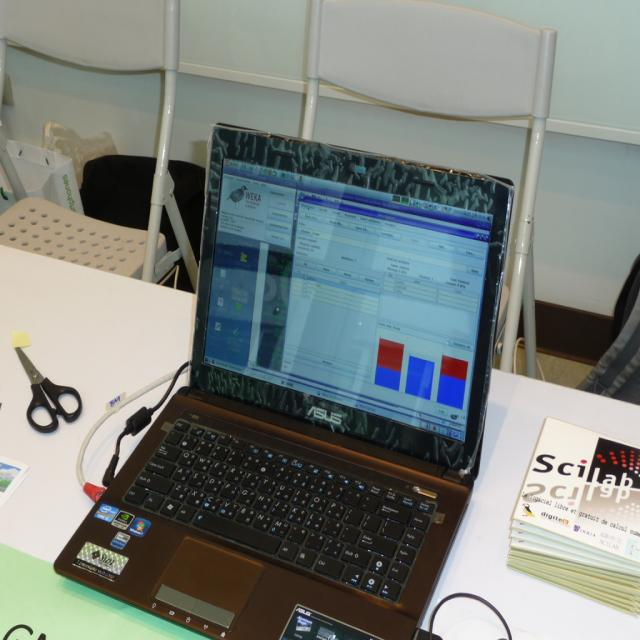scissors: (13, 345, 82, 433)
